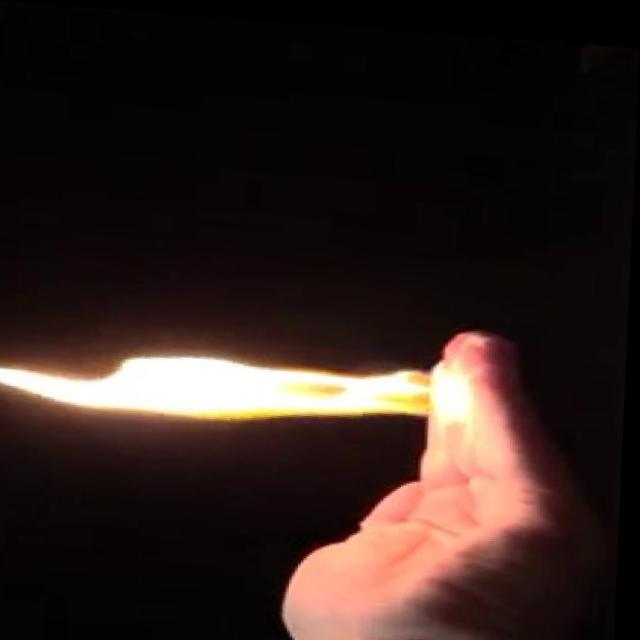Fire: (0, 335, 497, 461)
